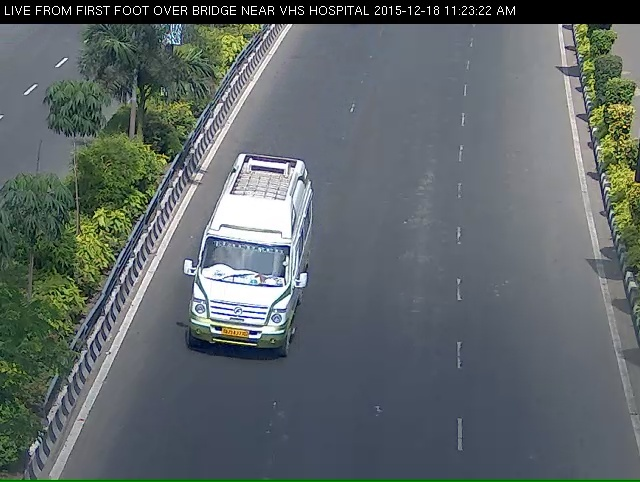Bus: (170, 165, 310, 400)
